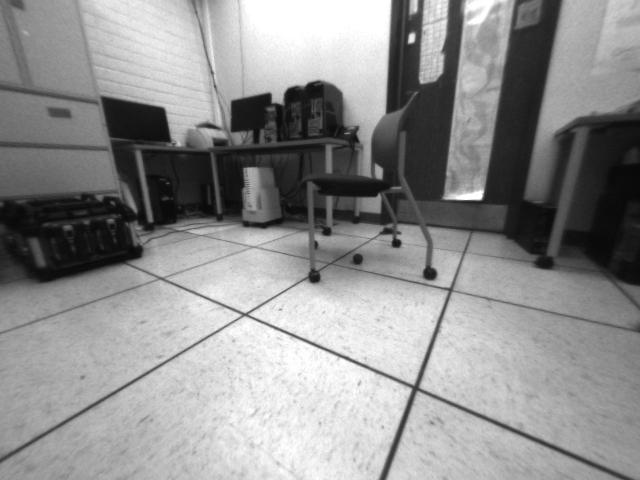dogtoy: (344, 248, 373, 270)
